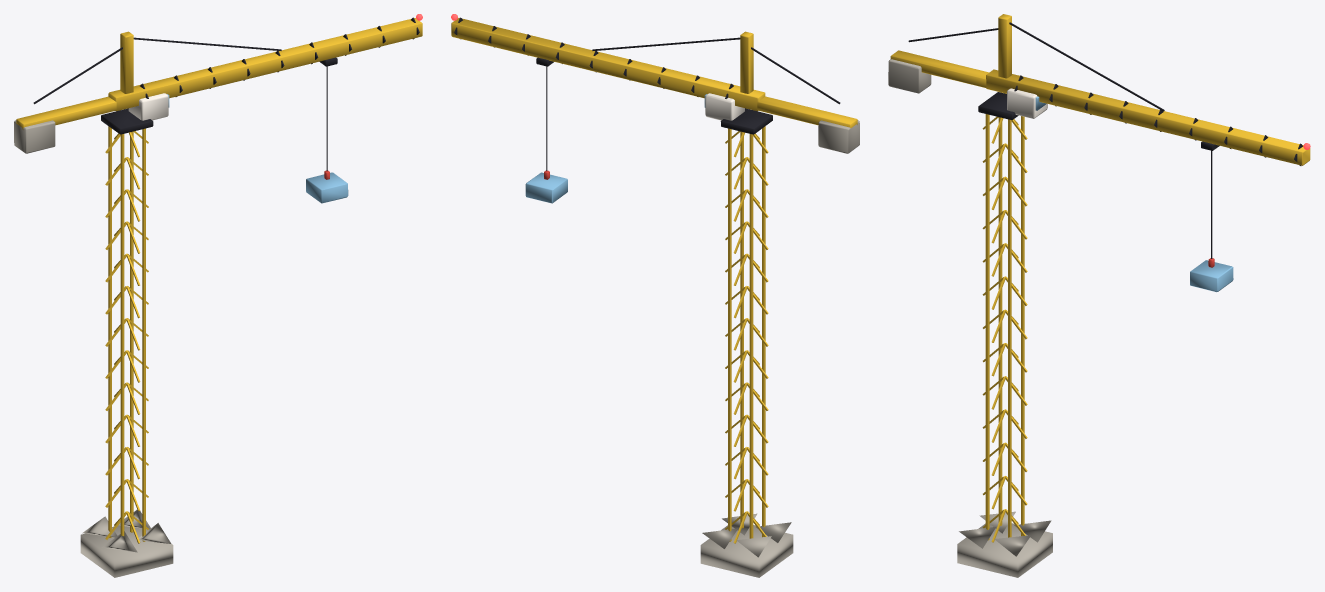
The model's file is crane.glb.
3 renders of one model, left to right at view 1: azimuth 30°, elevation 25°; view 2: azimuth 150°, elevation 25°; view 3: azimuth 330°, elevation 25°, orthographic. The views are drawn at different scales.
Parts seen in each view (by area): view 1: jib.013, crane.005; view 2: jib.013, crane.005; view 3: crane.005, jib.013.
Boxes of the visible parts, x1,y1,x2,y2 form: jib.013: [14, 14, 422, 203]; crane.005: [80, 126, 173, 577]; jib.013: [451, 14, 859, 203]; crane.005: [700, 126, 793, 577]; crane.005: [957, 114, 1052, 577]; jib.013: [888, 14, 1310, 292].
Bounding box in the file's own units: 26.19 × 32.57 × 3.82.
Materials: 1 (1 with a texture image).
